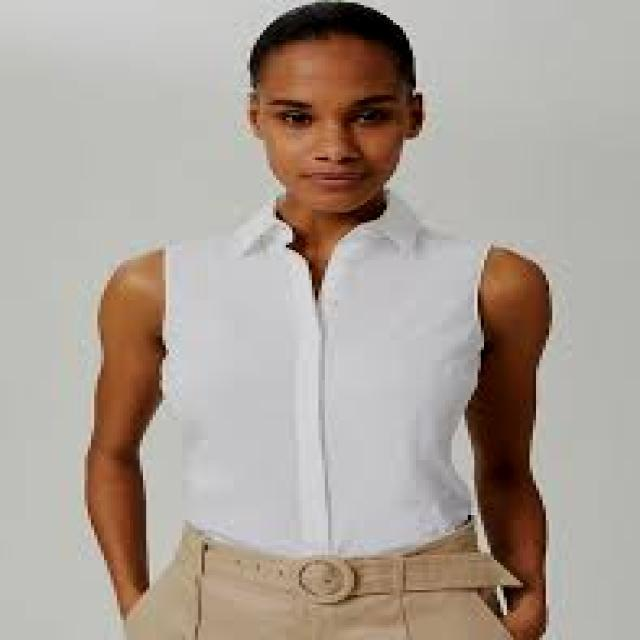no_vest: (166, 188, 494, 553)
